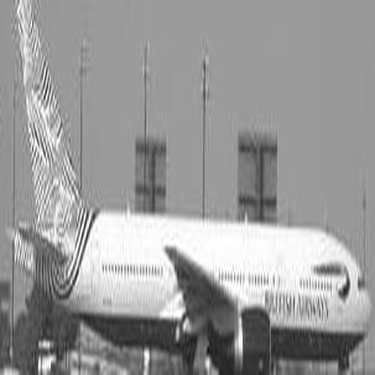airplane: (1, 13, 374, 373)
